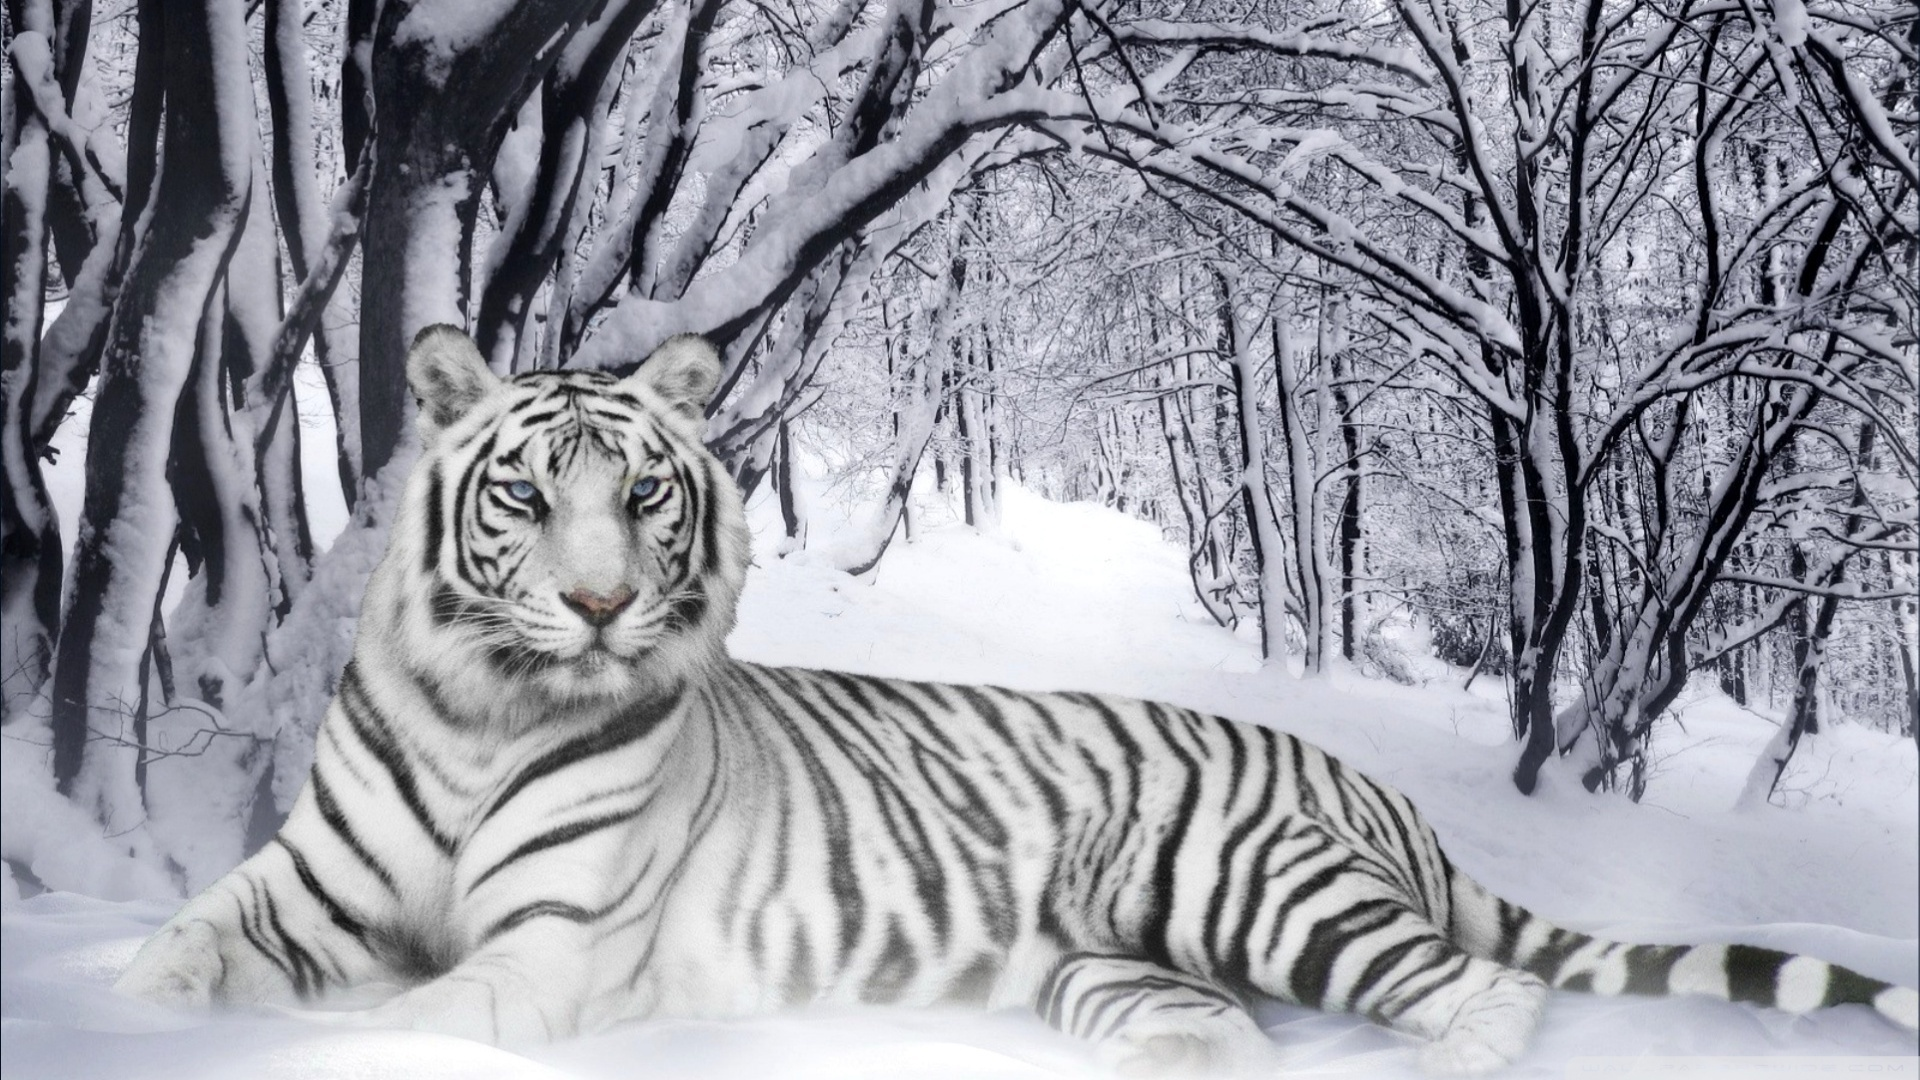tiger: (179, 335, 1905, 1062)
